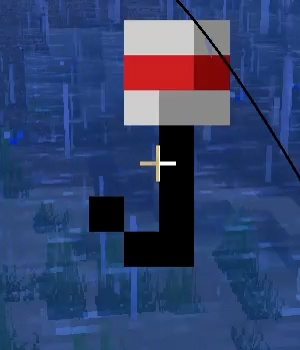up: (87, 13, 233, 273)
